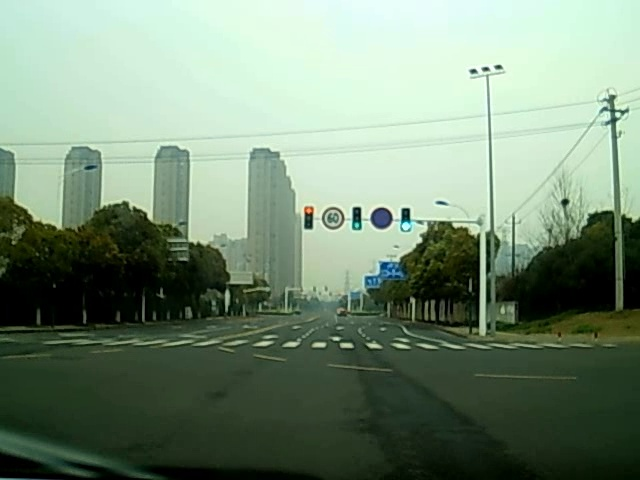Traffic_Light_go: (352, 208, 361, 230), (401, 208, 410, 230)
Traffic_Light_stop: (304, 206, 314, 231)
